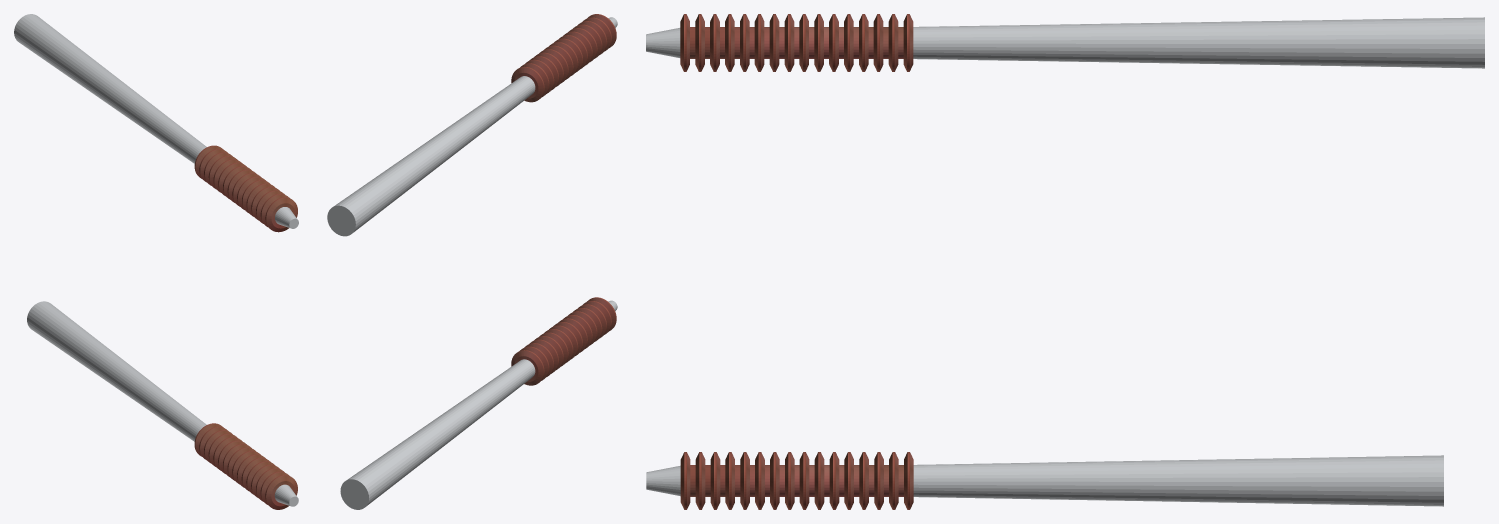
Rendered from catenary_end_00.obj.
The picture shows the model from 3 angles, left to right: view 1: azimuth 30°, elevation 25°; view 2: azimuth 150°, elevation 25°; view 3: azimuth 270°, elevation 25°; orthographic projection. The views are drawn at different scales.
Parts seen in each view (by area): view 1: insulators.001, insulators.002; view 2: insulators.001, insulators.002; view 3: insulators.001, insulators.002.
Boxes of the visible parts, x1=… form: insulators.001: x1=14, y1=14, x2=298, y2=232; insulators.002: x1=27, y1=301, x2=298, y2=509; insulators.001: x1=327, y1=14, x2=617, y2=236; insulators.002: x1=340, y1=297, x2=617, y2=509; insulators.001: x1=646, y1=14, x2=1484, y2=71; insulators.002: x1=646, y1=452, x2=1443, y2=509.
Bounding box in the file's own units: 0.1451 × 1.36 × 2.1.
Materials: 8 (8 with a texture image).
